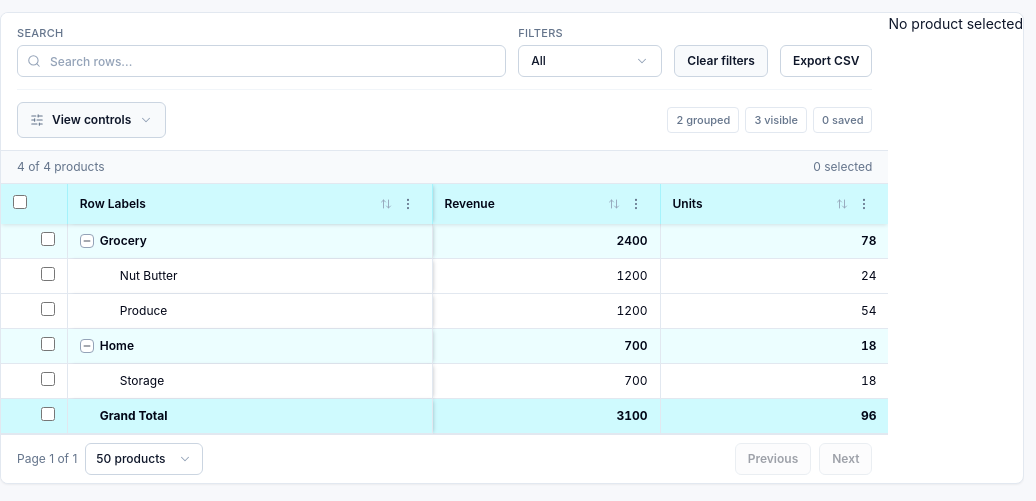
Test: DataGrid pivot layout mode › sorts pivot sibling groups by row label and measure values
Click the button "Row Labels": (113, 204) [80,196,392,212]
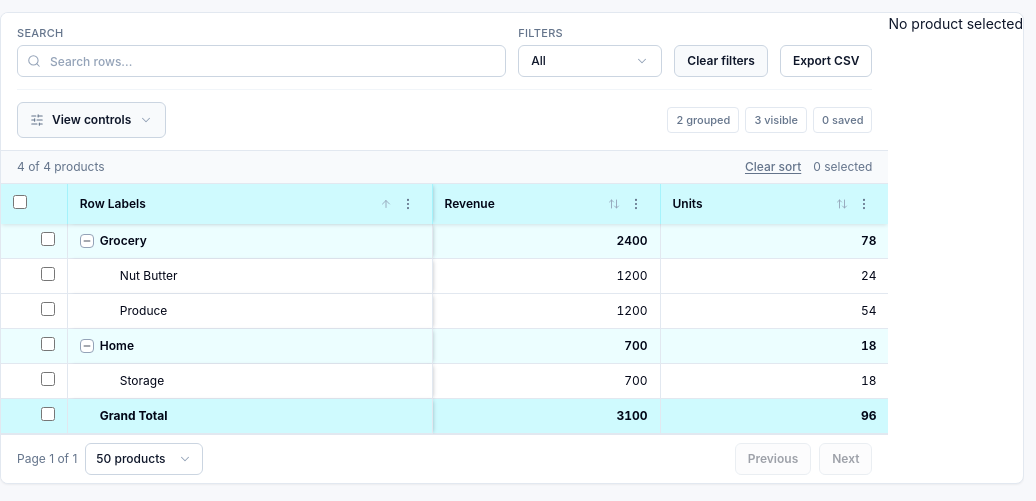
Click the button "Row Labels": (113, 204) [80,196,392,212]
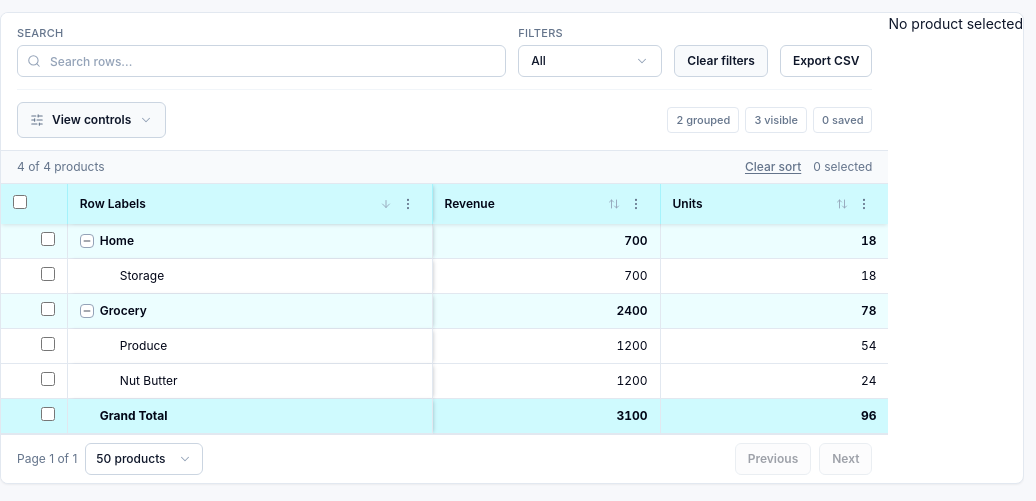
expect the text "Grand Total" is shown: met, box [100,408,168,424]
expect the text "Home" is shown: met, box [100,233,134,249]
Click the button "Revenue": (532, 204) [445,196,620,212]
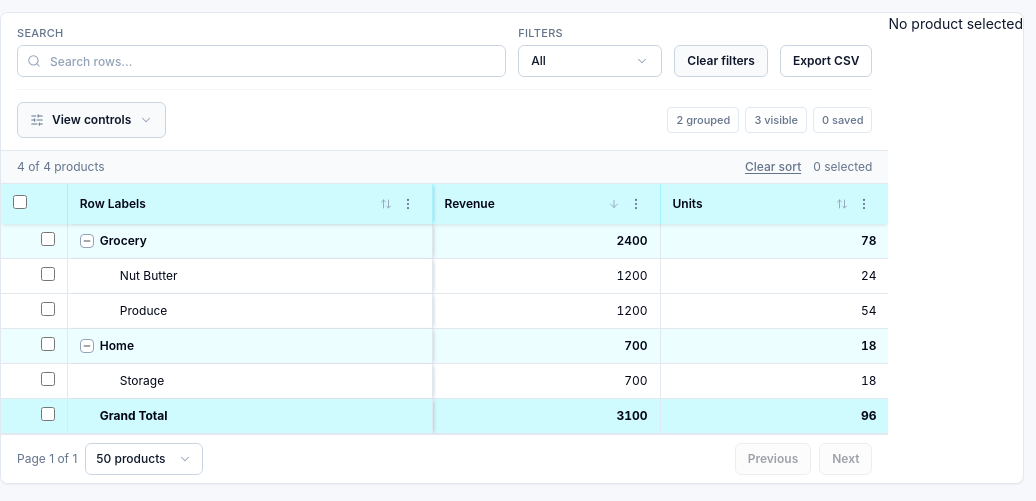
Click the button "Revenue": (532, 204) [445,196,620,212]
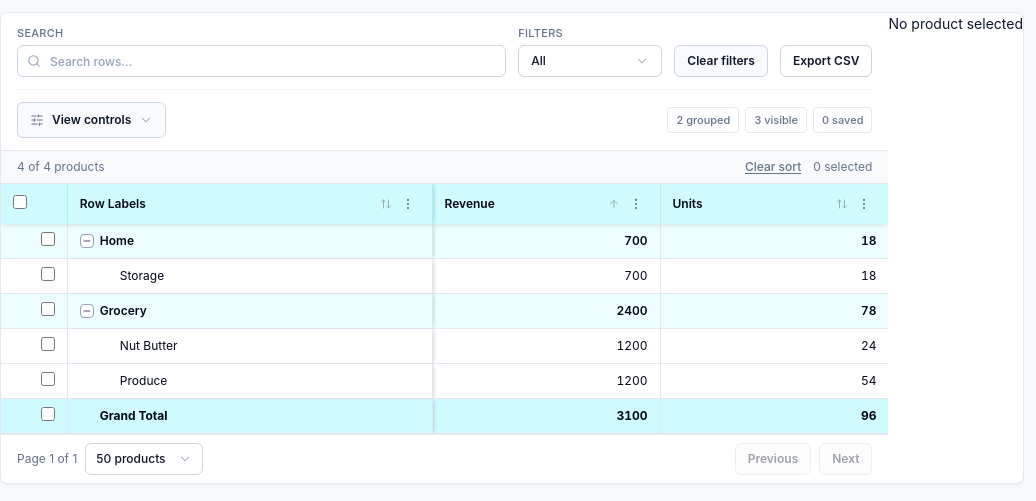
expect the text "Grand Total" is shown: met, box [100,408,168,424]
expect the text "Home" is shown: met, box [100,233,134,249]
